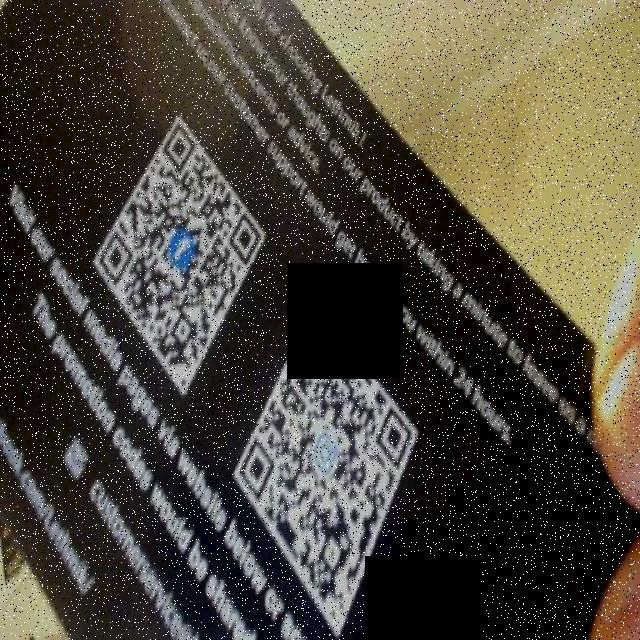QR_CODE: (230, 290, 429, 640), (82, 89, 272, 409)
